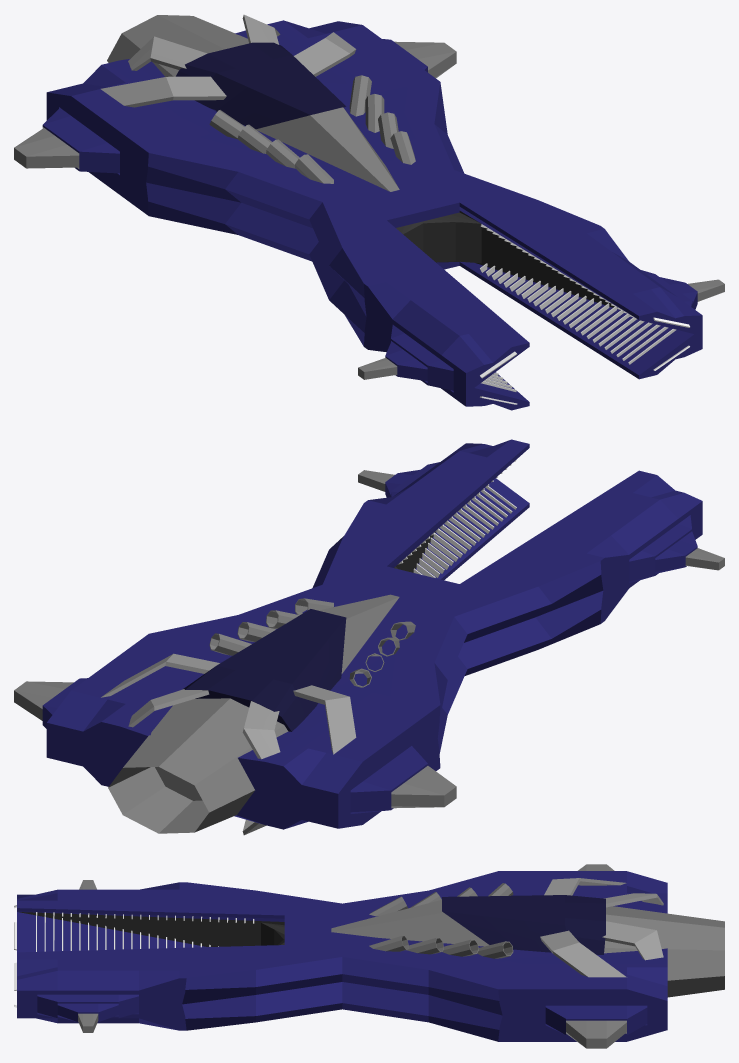
3 views of the same model, one above another, from view 1: azimuth 30°, elevation 25°; view 2: azimuth 150°, elevation 25°; view 3: azimuth 270°, elevation 25° (orthographic). The views are drawn at different scales.
Visible parts, largest first — view 1: Cylinder.001; view 2: Cylinder.001; view 3: Cylinder.001.
Part boxes in pixels (x1,y1,x2,y2): Cylinder.001: (14, 14, 724, 410); Cylinder.001: (14, 439, 724, 835); Cylinder.001: (14, 864, 724, 1048).
Size of the model in its own units: 609 by 170 by 1049.
